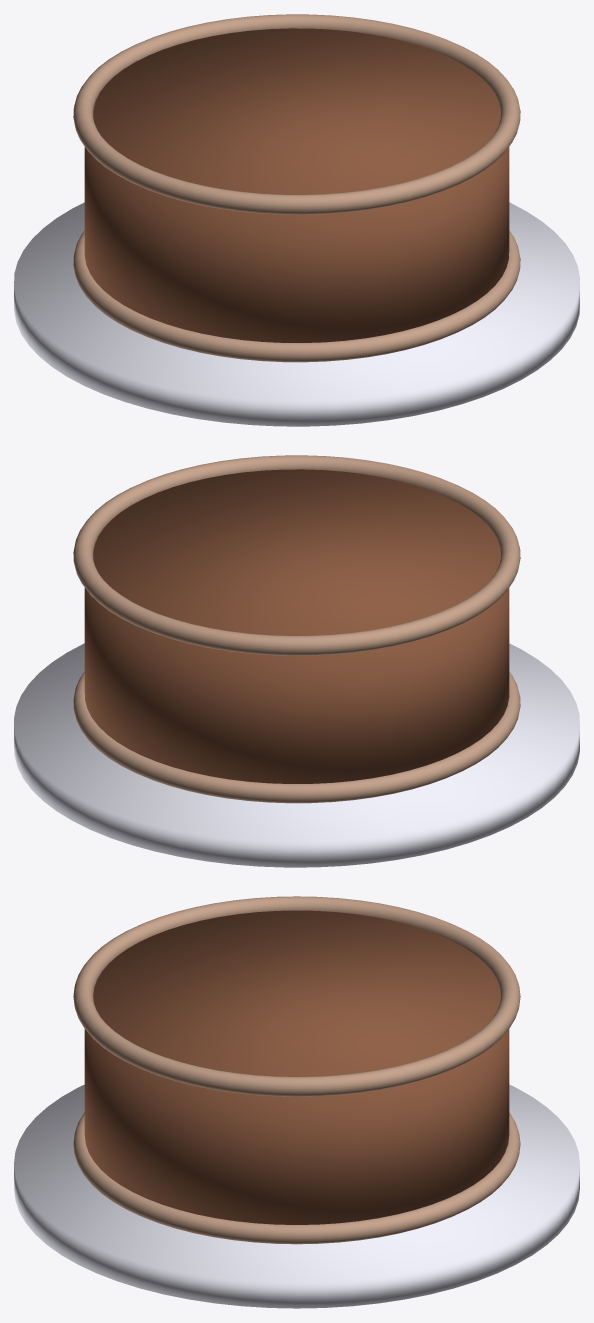
The model's file is round_chocolate.glb.
The picture shows the model from 3 angles, top to bottom: view 1: azimuth 30°, elevation 25°; view 2: azimuth 150°, elevation 25°; view 3: azimuth 270°, elevation 25°; orthographic projection.
Parts seen in each view (by area): view 1: CakeBase, IcingStand, IcingRing, IcingRing.001; view 2: CakeBase, IcingStand, IcingRing, IcingRing.001; view 3: CakeBase, IcingStand, IcingRing, IcingRing.001.
Part boxes in pixels (<box>): CakeBase: <box>84,28,509,342</box>; IcingStand: <box>14,202,579,426</box>; IcingRing: <box>73,14,520,214</box>; IcingRing.001: <box>73,230,520,362</box>; CakeBase: <box>84,469,509,783</box>; IcingStand: <box>14,643,579,867</box>; IcingRing: <box>73,455,520,655</box>; IcingRing.001: <box>73,671,520,803</box>; CakeBase: <box>84,910,509,1224</box>; IcingStand: <box>14,1084,579,1308</box>; IcingRing: <box>73,896,520,1096</box>; IcingRing.001: <box>73,1112,520,1244</box>.
Bounding box in the file's own units: 4 × 1.57 × 4.
